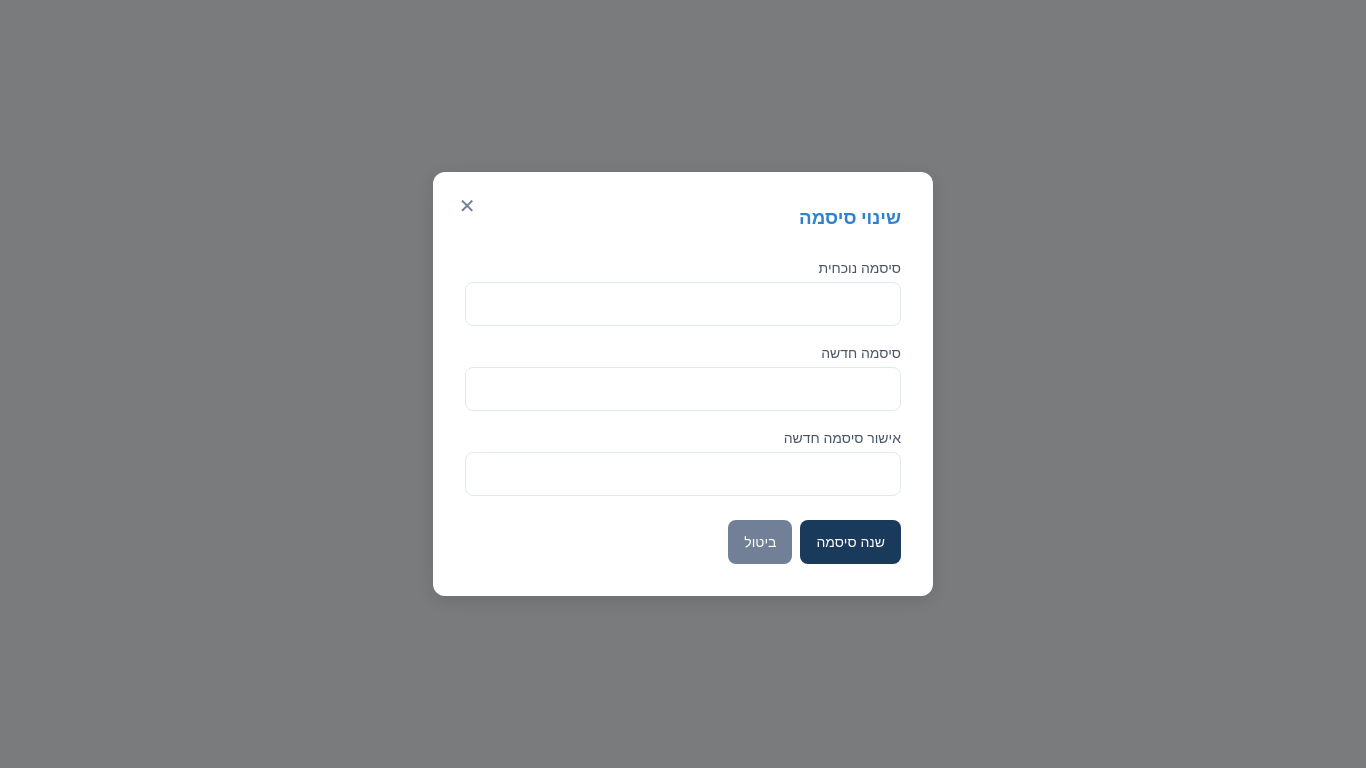
Test: ChangePasswordModal › should show error when new password is too short
This screenshot has width=1366, height=768.
Step 1. Type "current123" into the password field labelled "סיסמה נוכחית" → (683, 304), box [465,282,901,326]
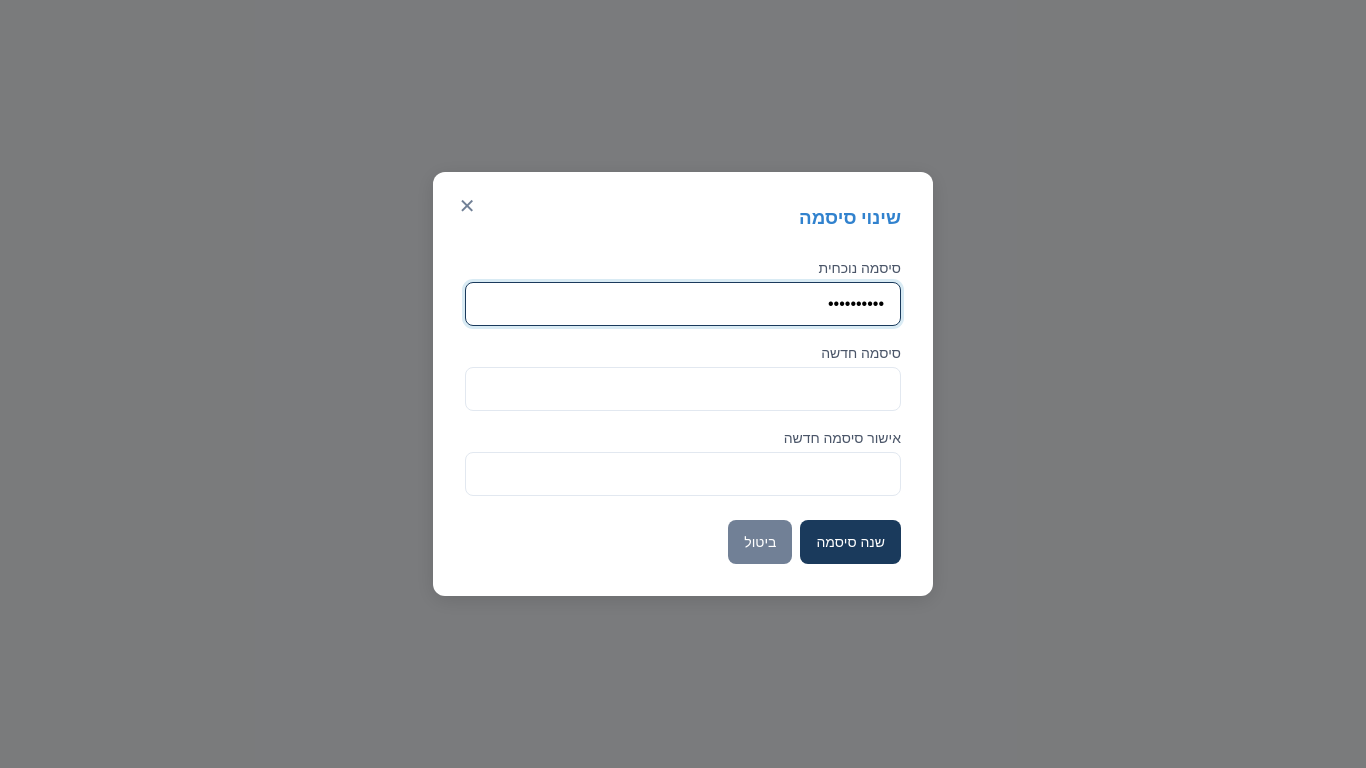
Step 2. Type "123" into the password field labelled "סיסמה חדשה" → (683, 388), box [465,366,901,410]
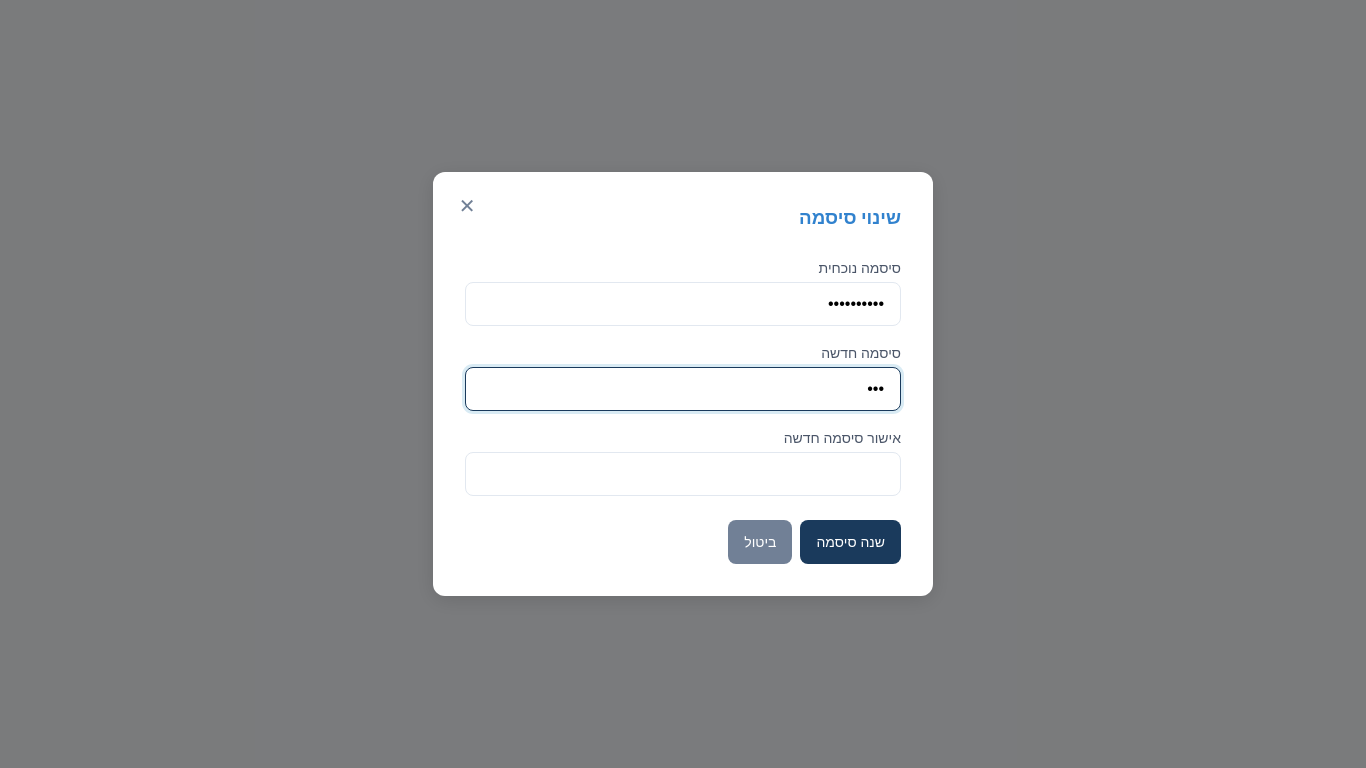
Step 3. Type "123" into the password field labelled "אישור סיסמה חדשה" → (683, 474), box [465,452,901,496]
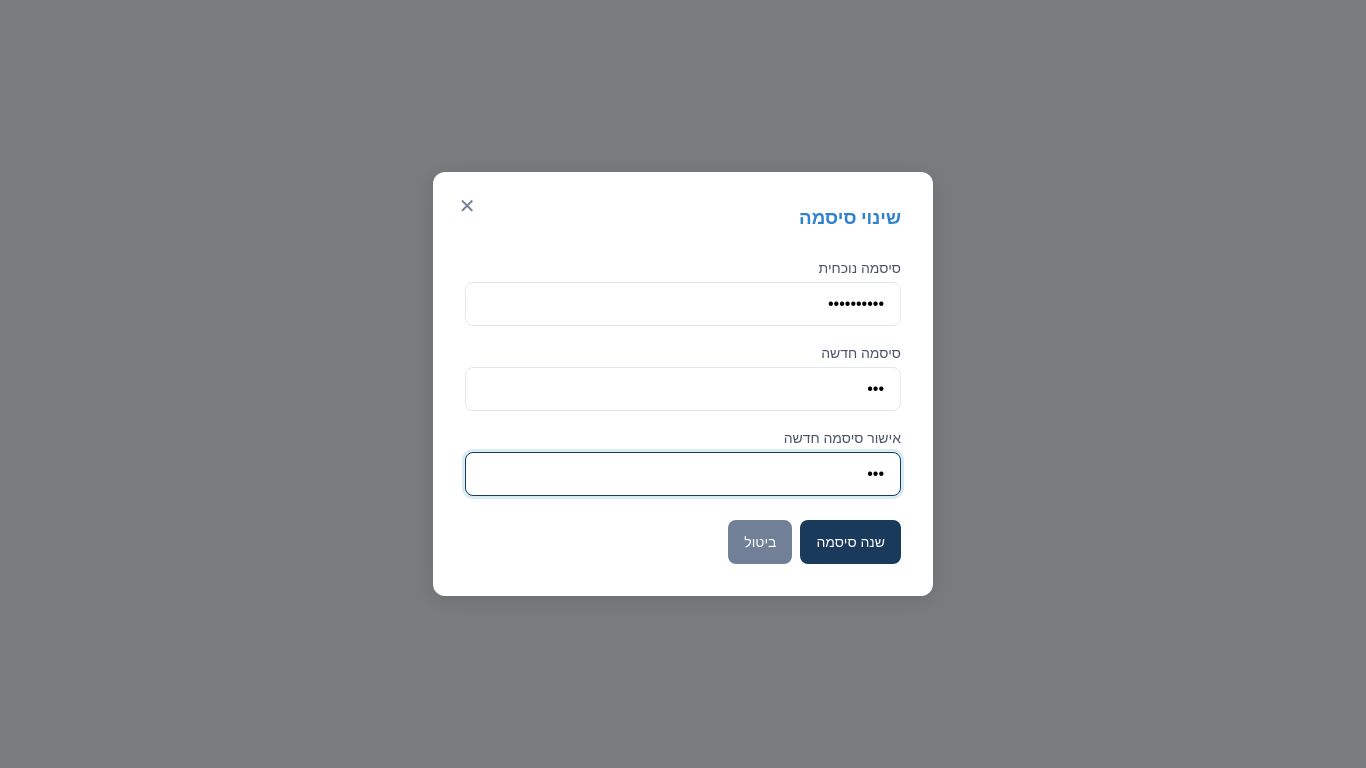
Step 4. Click the button "שנה סיסמה" → (851, 542), box [800,520,901,564]
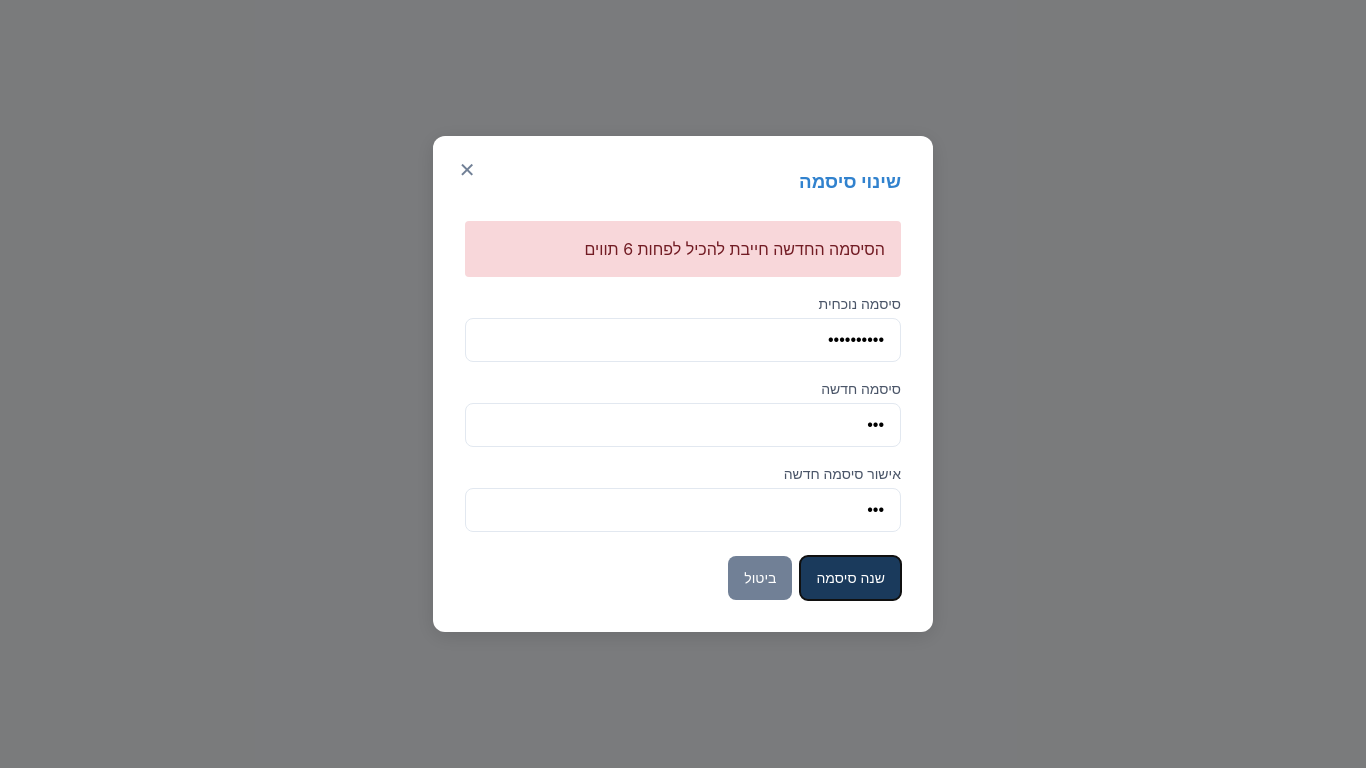
Check: the text "הסיסמה החדשה חייבת להכיל לפחות 6 תווים" is shown, box [465,220,901,276]
